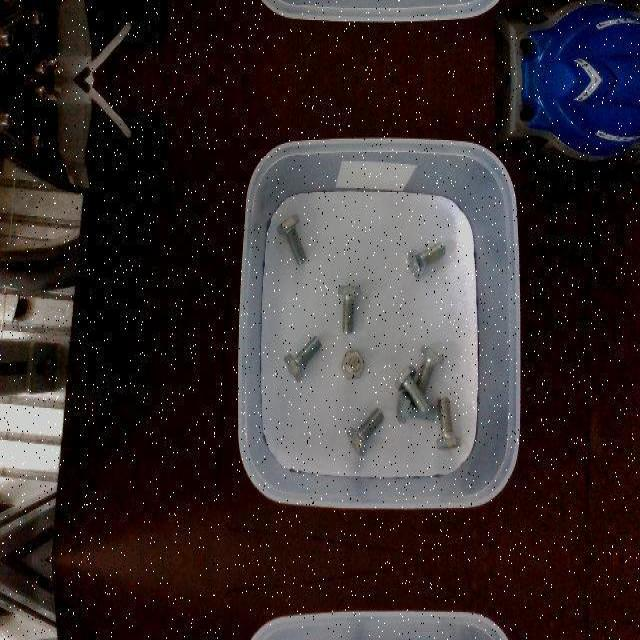screw: (346, 405, 384, 455), (283, 335, 321, 383), (394, 365, 428, 415), (276, 213, 306, 265), (436, 396, 462, 450), (407, 242, 445, 278), (338, 283, 361, 333), (341, 349, 365, 379)
